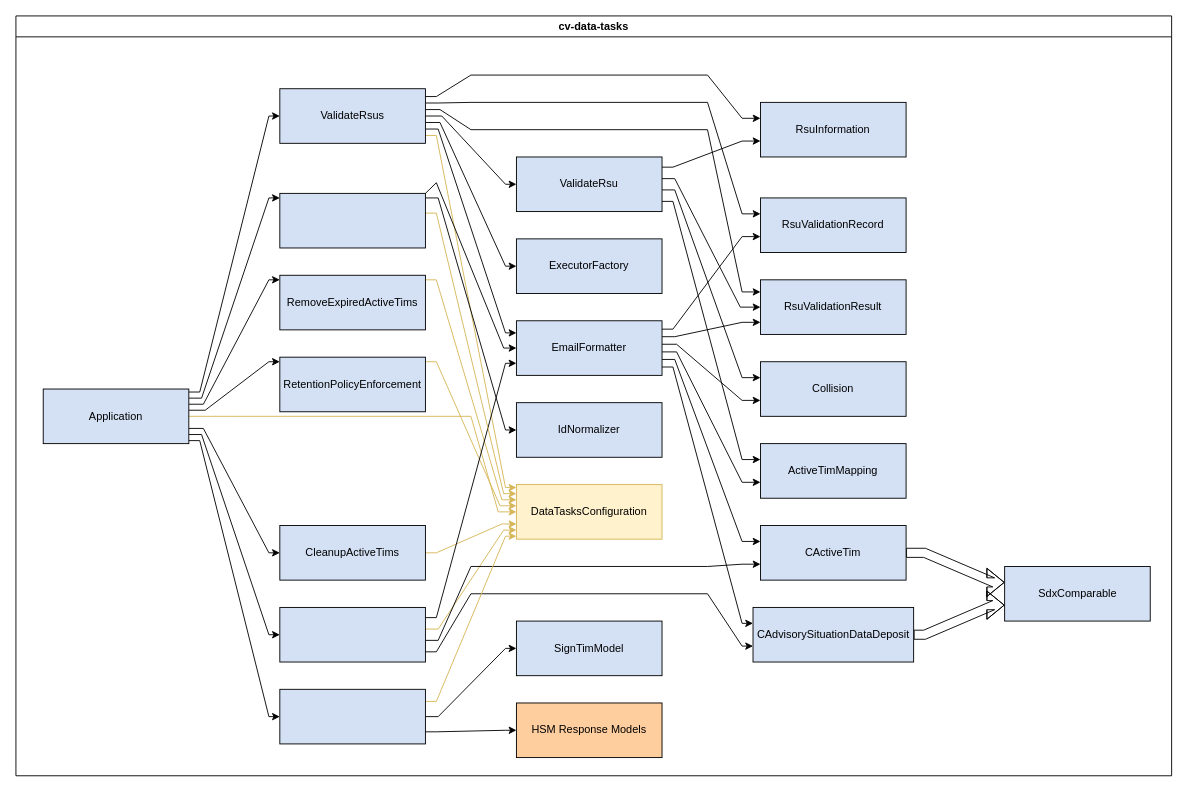
Some shapes in this 1188 by 792 pixel diagram are drawn without their labels. The centre of each missing label's shape, as x and y in pixels:
ValidateSdx: the point at 352,634
ValidateTmdd: the point at 352,220
VerifyHSMFunctional: the point at 352,716
